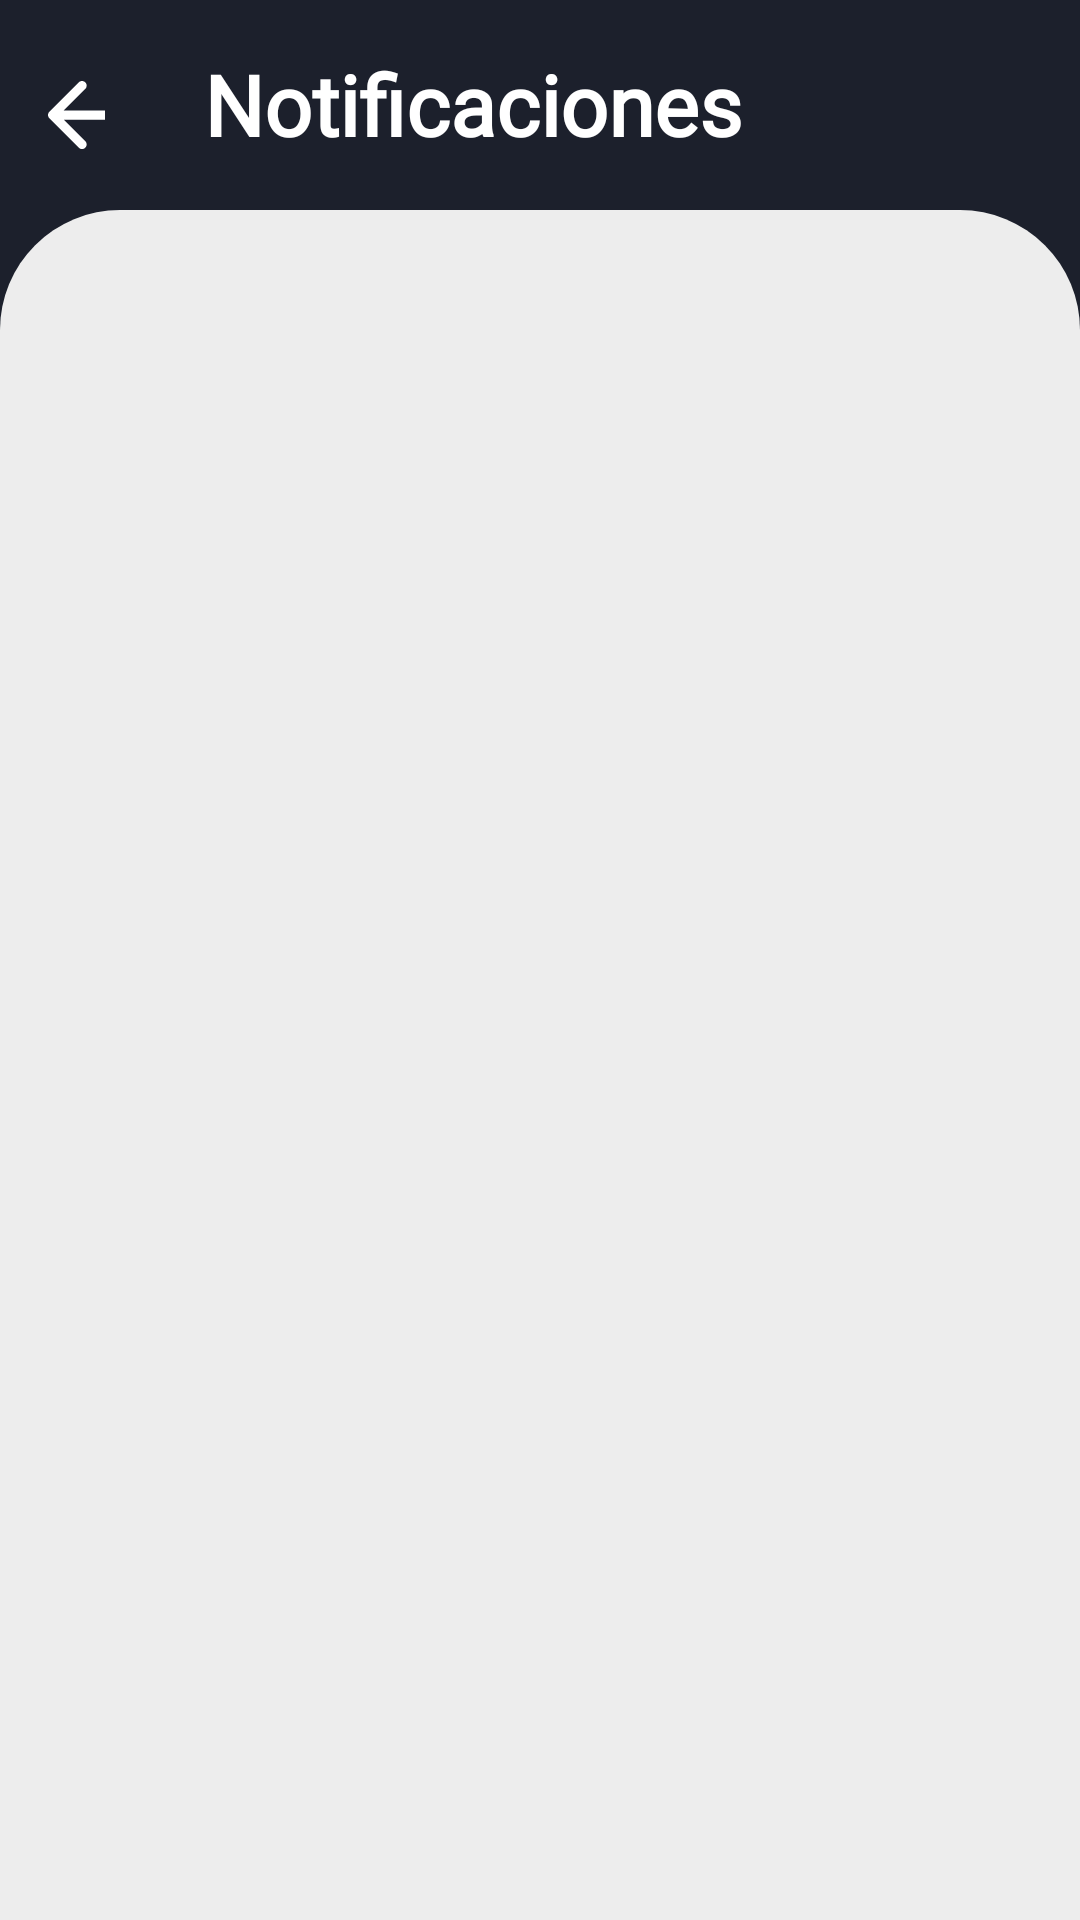

Icons on this 1080px x 1920px Android screen, each with its box as (x1, y1, x2, y2):
arrow: (48, 81, 105, 149)
